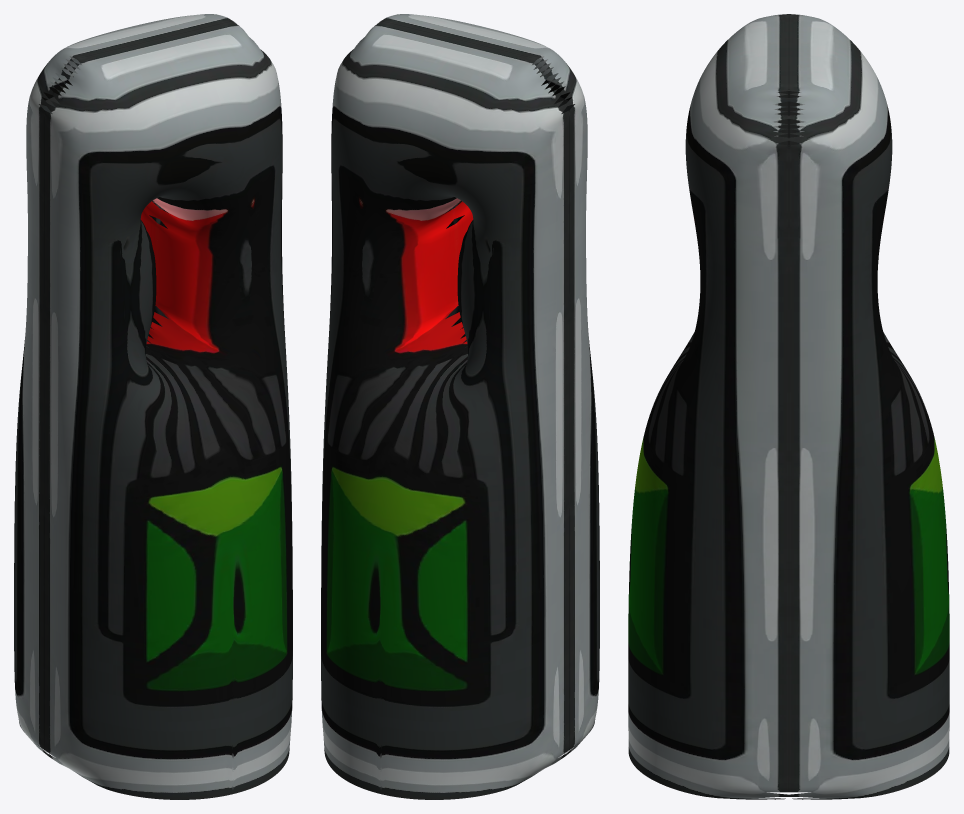
The model's file is switch_box.glb.
The picture shows the model from 3 angles, left to right: view 1: azimuth 30°, elevation 25°; view 2: azimuth 150°, elevation 25°; view 3: azimuth 270°, elevation 25°; orthographic projection.
Parts seen in each view (by area): view 1: switch_box; view 2: switch_box; view 3: switch_box.
Boxes of the visible parts, <box> form: switch_box: <box>14,14,292,799</box>; switch_box: <box>321,14,599,799</box>; switch_box: <box>628,14,949,799</box>.
Bounding box in the file's own units: 0.9674 × 2.94 × 1.23.
1 material, 1 textured.
